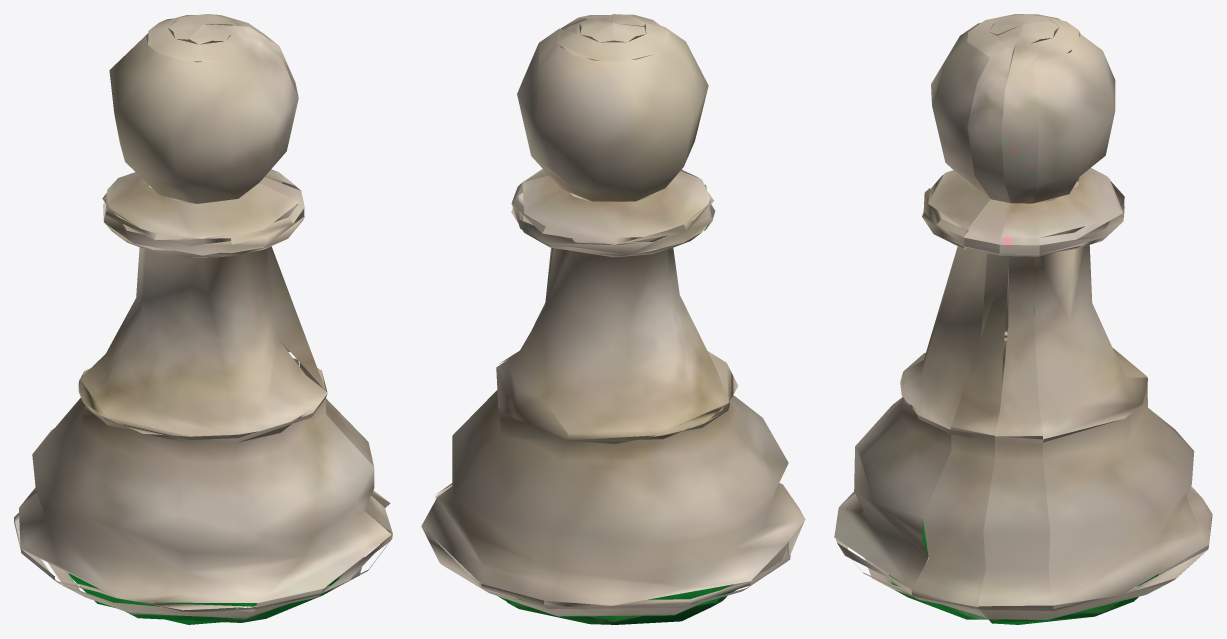
3 renders of one model, left to right at view 1: azimuth 30°, elevation 25°; view 2: azimuth 150°, elevation 25°; view 3: azimuth 270°, elevation 25°, orthographic.
Visible parts, largest first — view 1: WP.007; view 2: WP.007; view 3: WP.007.
Boxes of the visible parts, left/top/right/bottom form: WP.007: left=14, top=14, right=392, bottom=624; WP.007: left=421, top=14, right=805, bottom=624; WP.007: left=834, top=14, right=1212, bottom=624.
Size of the model in its own units: 0.0314 by 0.0501 by 0.0315.
Materials: 1 (1 with a texture image).
